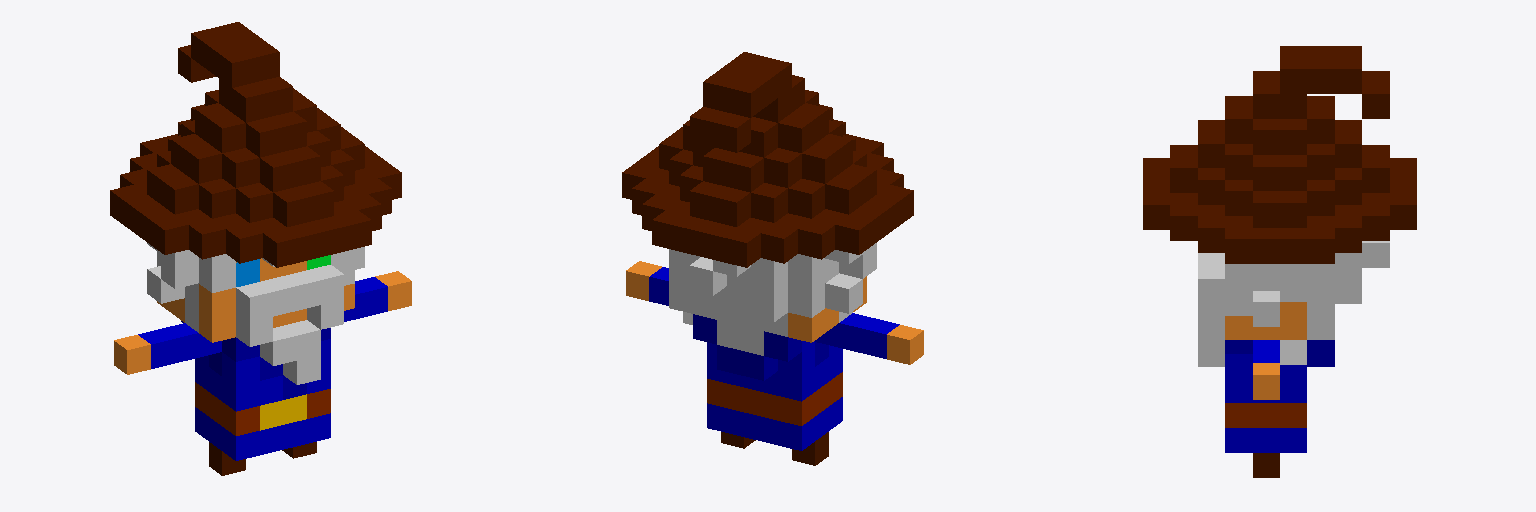
3 renders of one model, left to right at view 1: azimuth 30°, elevation 25°; view 2: azimuth 150°, elevation 25°; view 3: azimuth 270°, elevation 25°, orthographic.
Parts seen in each view (by area): view 1: object 1; view 2: object 1; view 3: object 1.
Boxes of the visible parts, box(x1,y1,x2,y2) form: object 1: box(110, 22, 411, 475); object 1: box(622, 52, 923, 465); object 1: box(1143, 46, 1416, 477).
Bounding box in the file's own units: 1.2 × 1.6 × 1.
Materials: 1 (1 with a texture image).